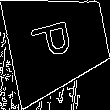P_E: (33, 19, 83, 66)
